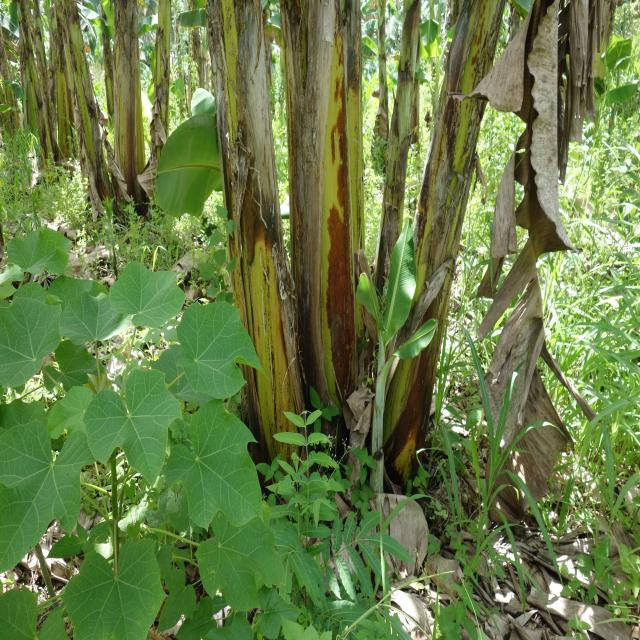Banana-plant: (370, 0, 506, 481), (202, 0, 308, 483), (289, 0, 364, 455), (367, 0, 429, 380), (59, 2, 108, 224), (106, 0, 146, 220), (15, 0, 54, 187), (148, 0, 174, 209), (376, 4, 390, 170)
